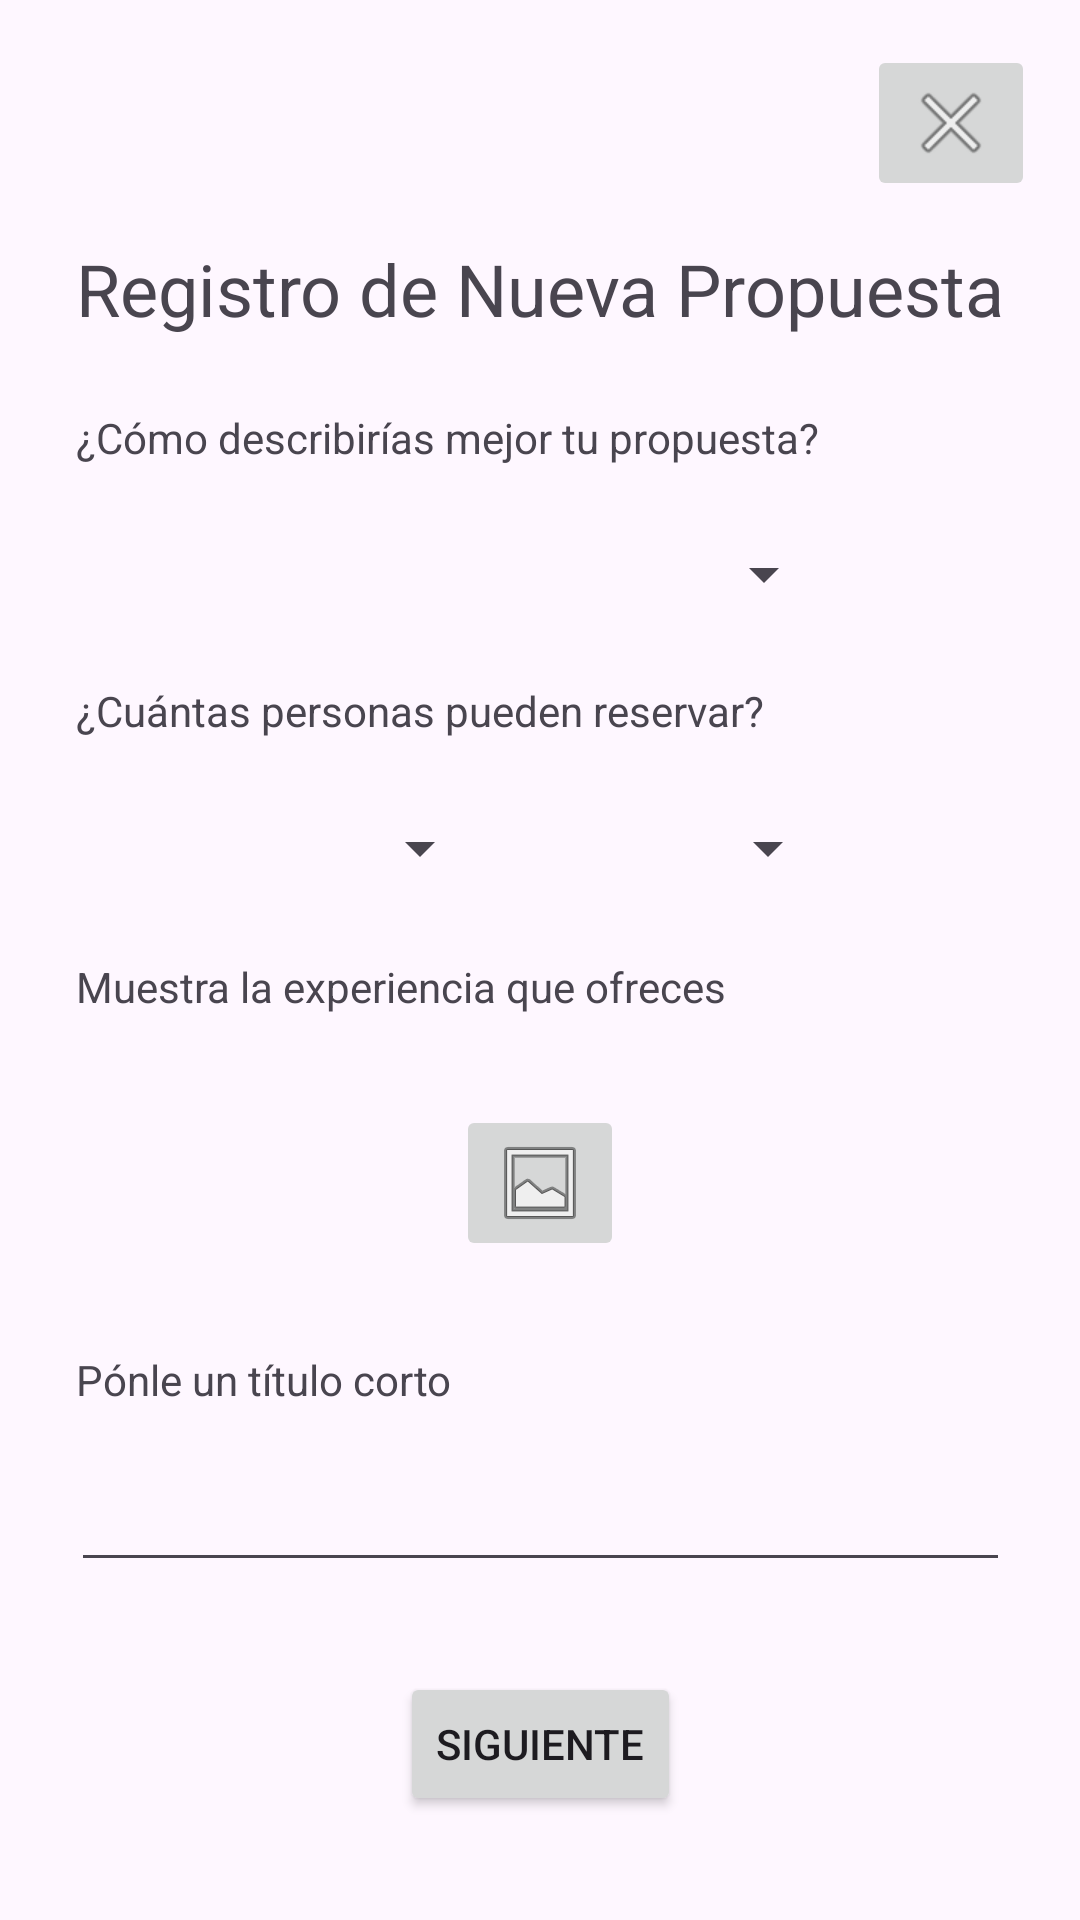

Icon bounding boxes for this 1080 x 1920 phone screenshot, format (x1, y1, x2, y2):
close clear cancel: (879, 63, 1023, 183)
gallery: (468, 1123, 612, 1243)
